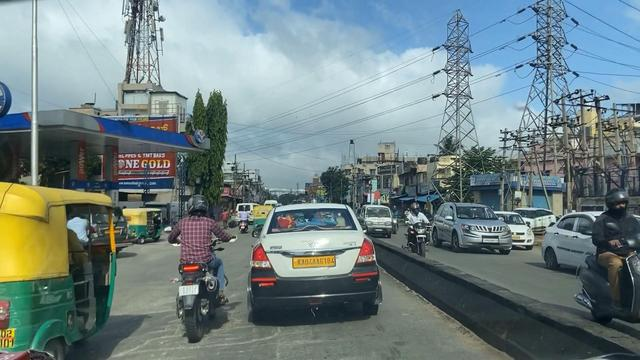LMV: (251, 209, 386, 315), (165, 189, 225, 341)
RoadDamages: (141, 317, 249, 360)
